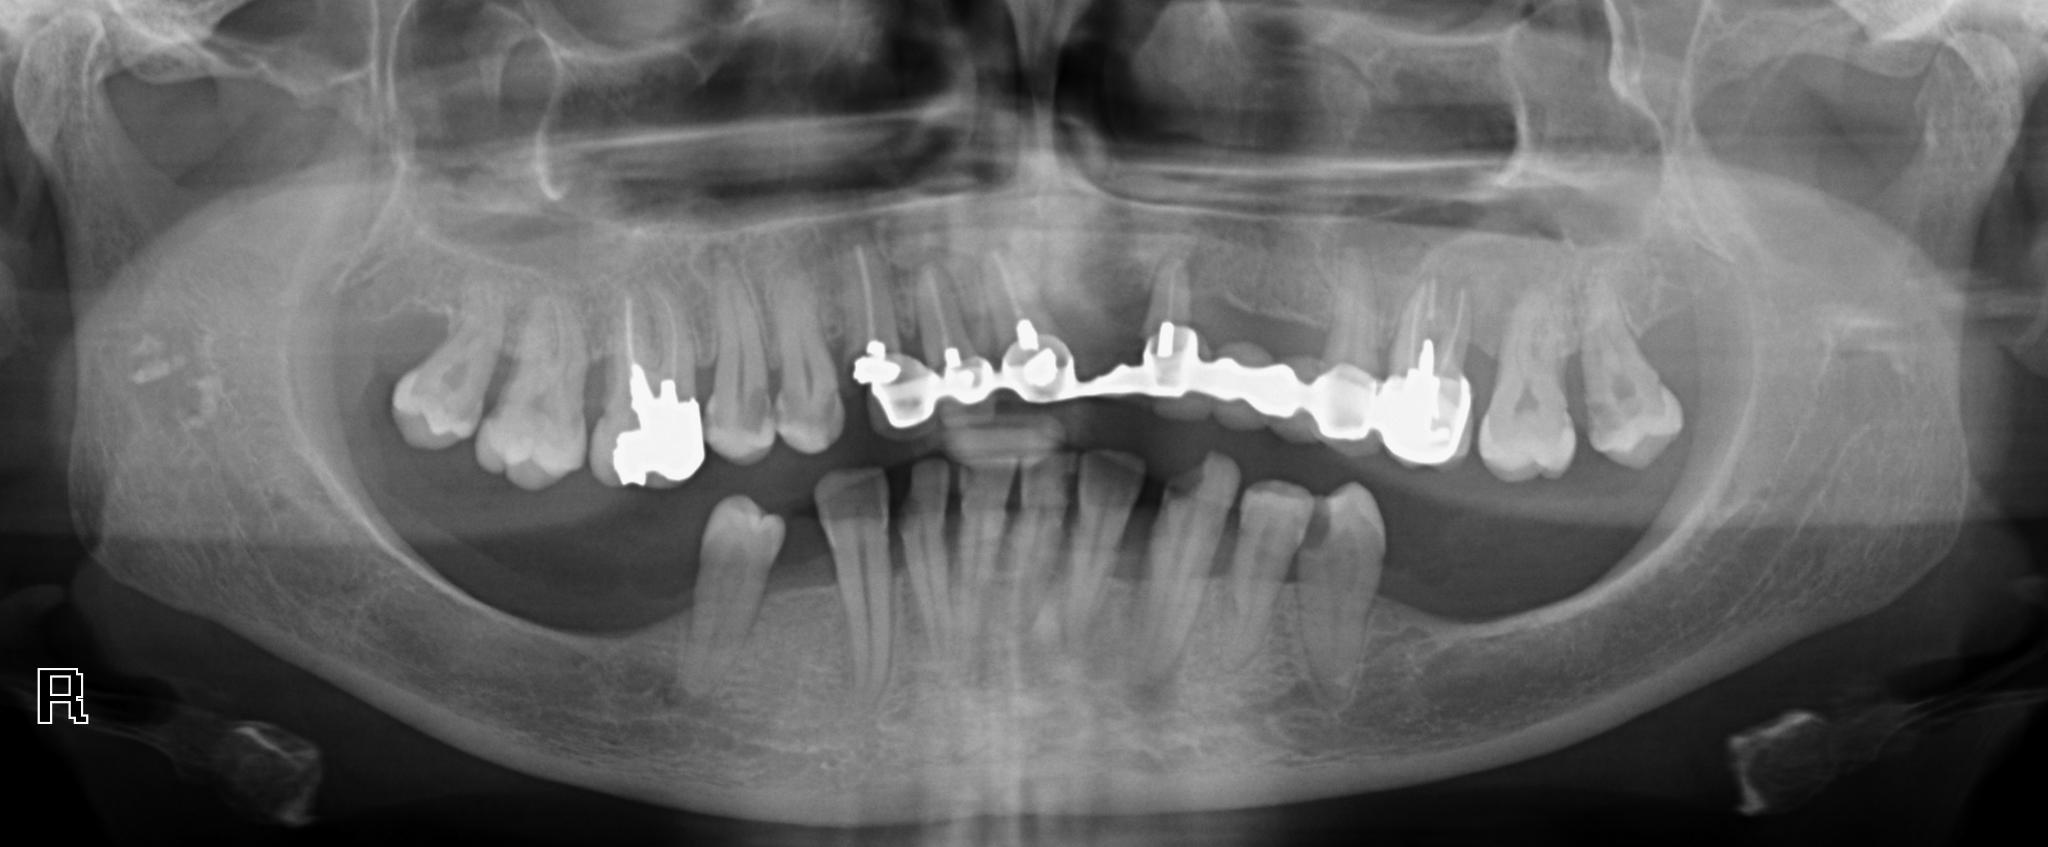Fillings: (1303, 253, 1379, 454), (1209, 290, 1305, 425), (1145, 251, 1201, 415), (1081, 363, 1143, 404)
Implant: (585, 273, 705, 493), (1372, 254, 1487, 474), (841, 237, 941, 437), (986, 245, 1079, 408)
